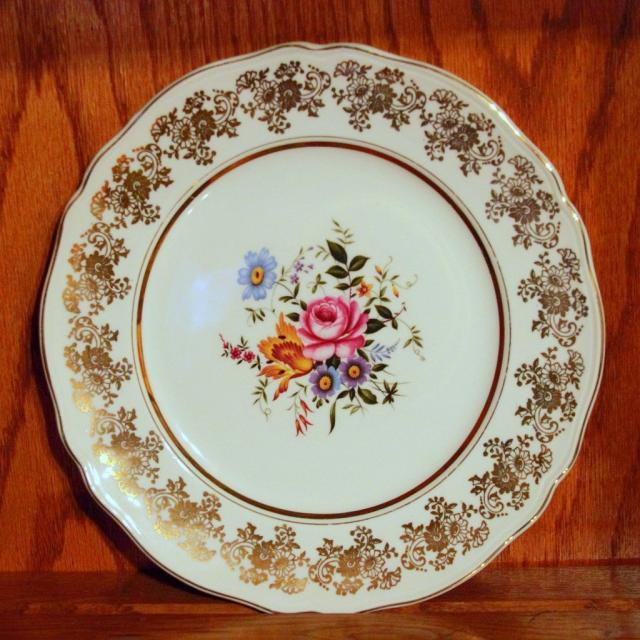ceramic plate: (30, 28, 608, 620)
